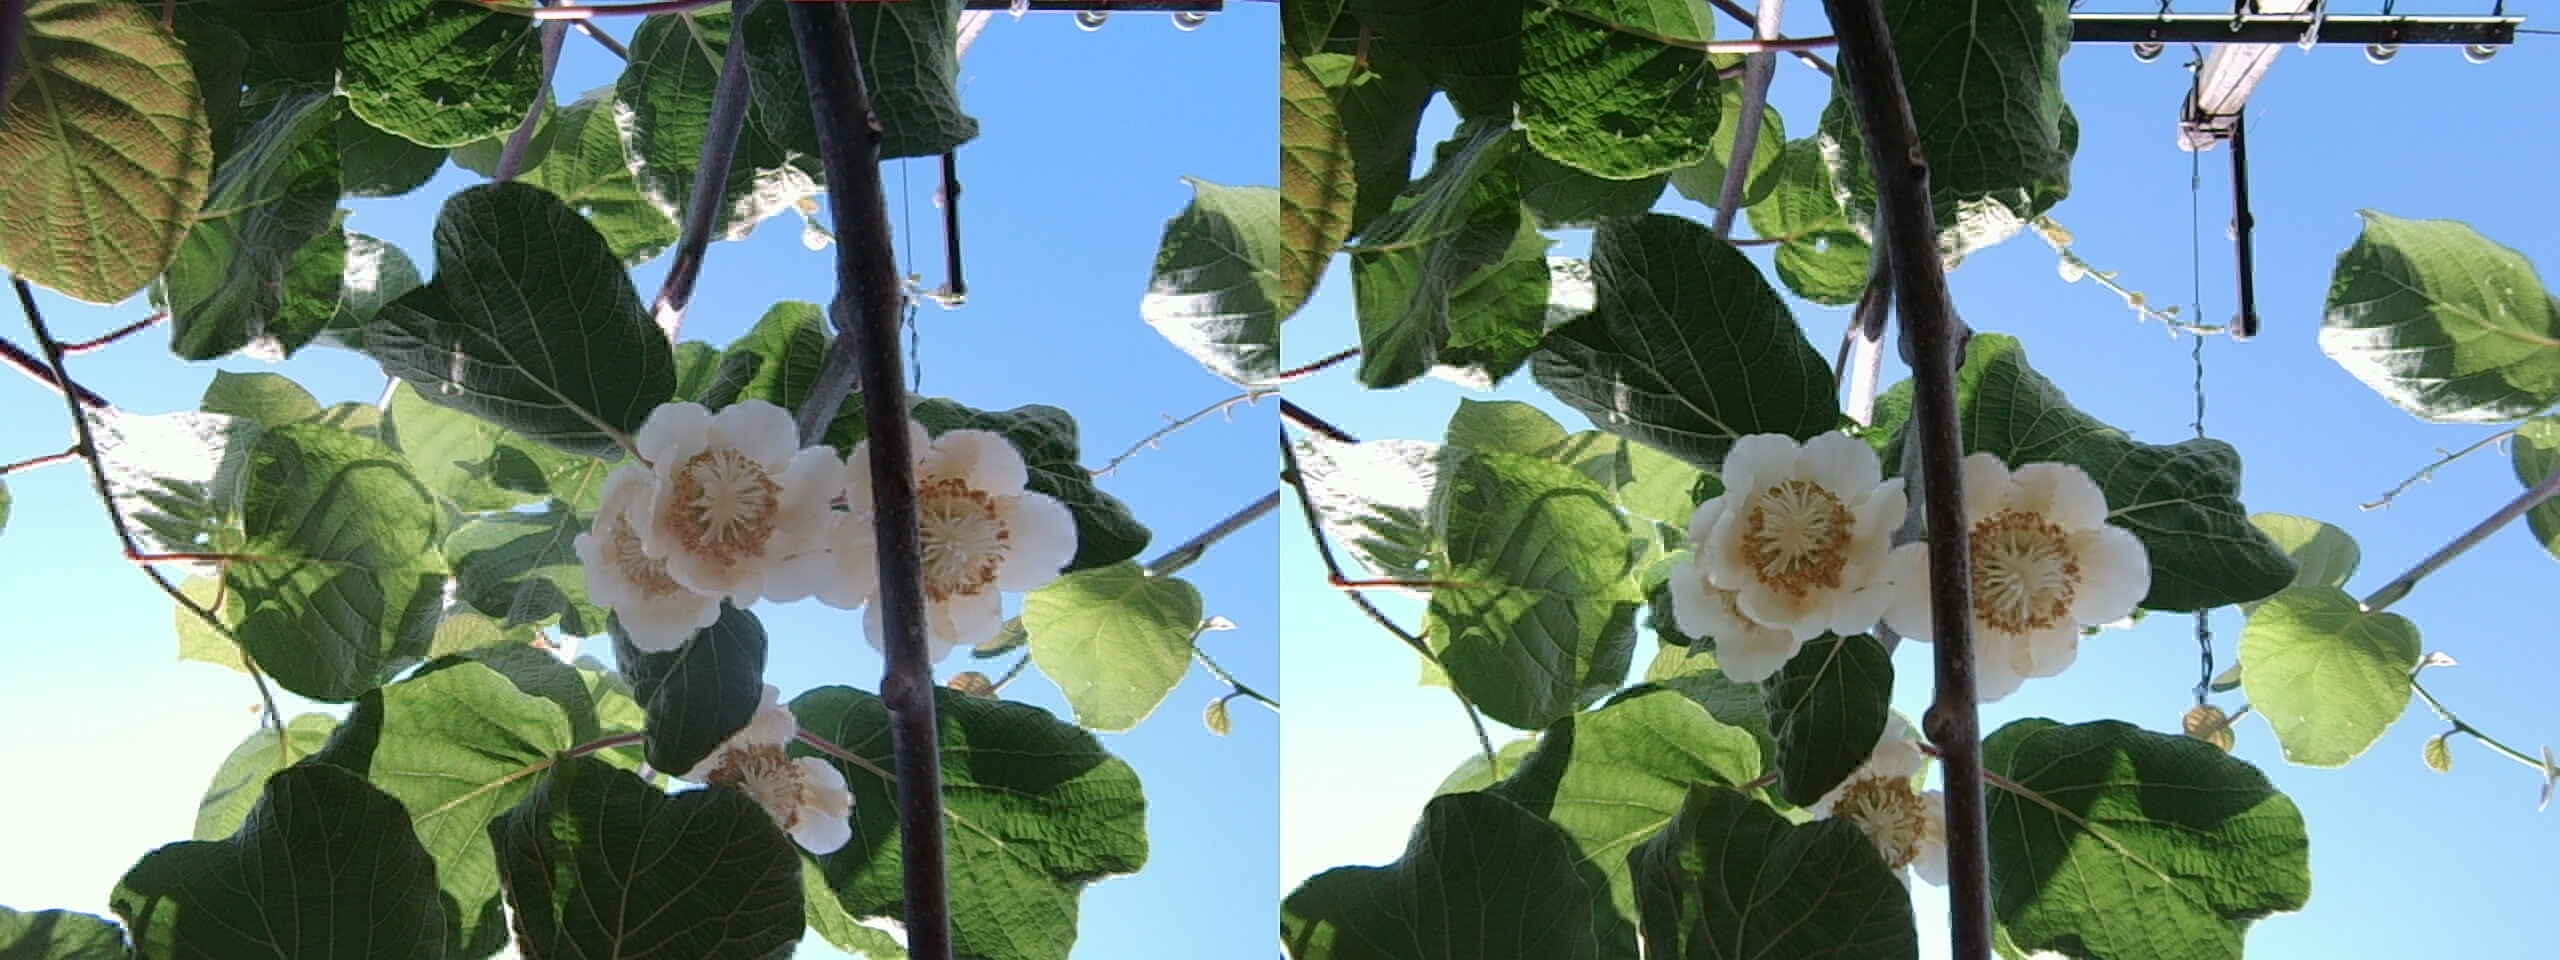flower: (584, 387, 842, 630), (1669, 423, 1910, 664), (1940, 451, 2144, 679), (890, 428, 1068, 647), (679, 704, 847, 847), (1807, 727, 1941, 877)
